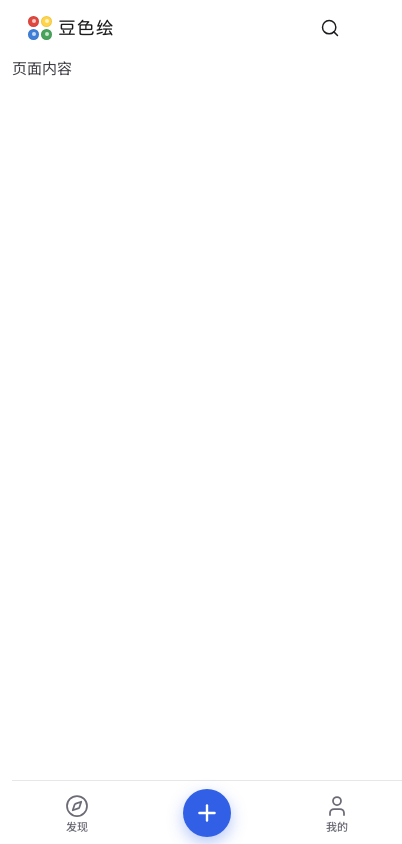
Test: 站点外壳 › 手机：点放大镜进入全屏搜索页（页面内容隐藏，底栏保留），返回后恢复
Click the button named "搜索": (330,28) [310,8,350,48]
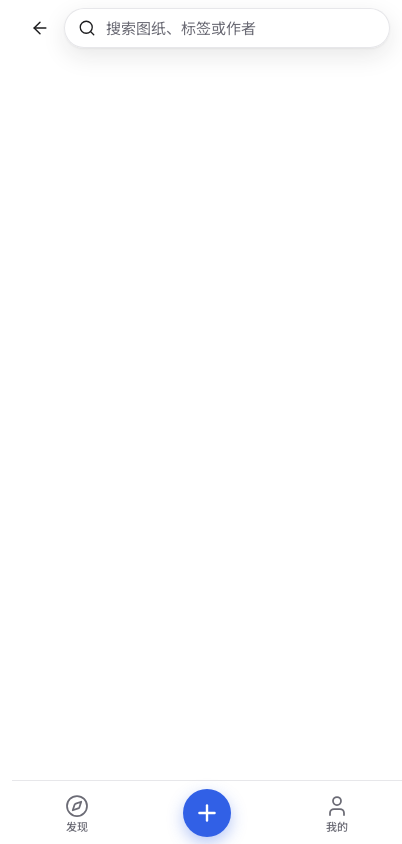
Click the button named "返回": (40,28) [20,8,60,48]
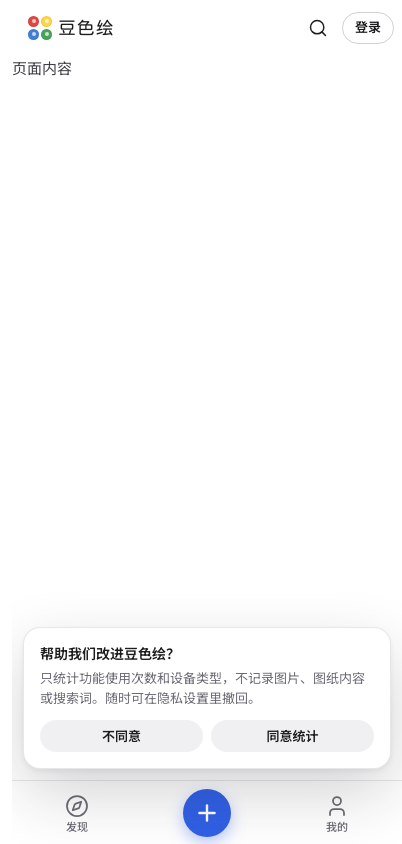
Expected: the element "搜索建议" is gone
Expected: the number of buttons "登录" is 2
